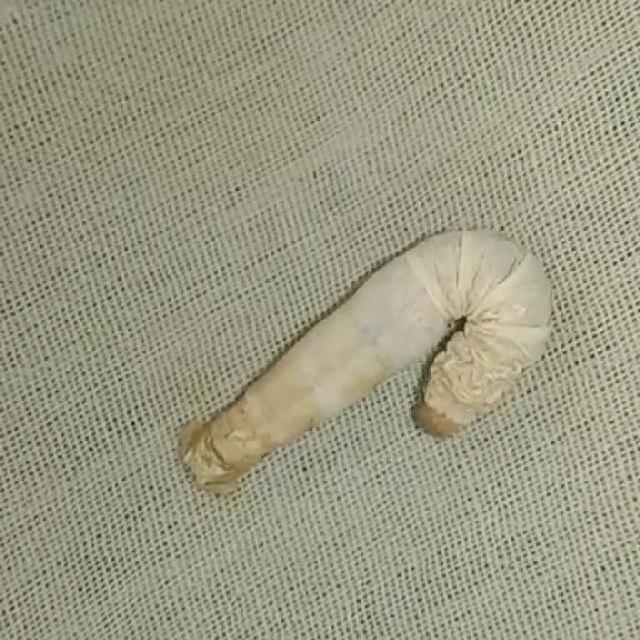Grasserie: (172, 211, 554, 494)
